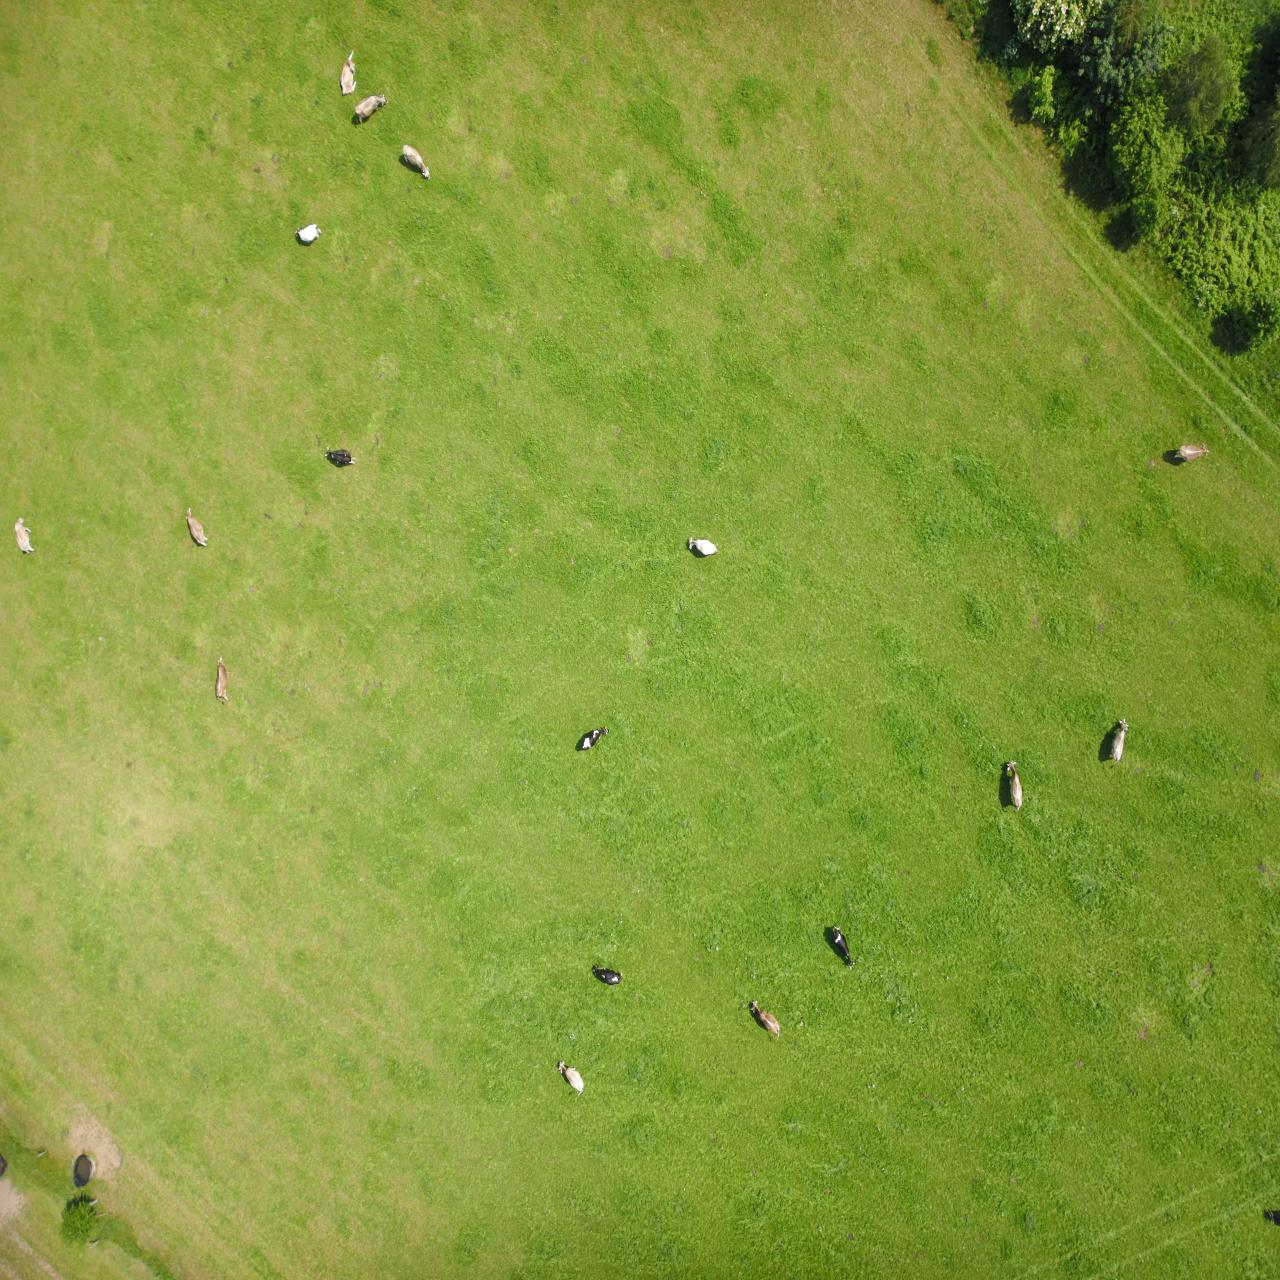cow: (1102, 712, 1135, 774), (747, 990, 781, 1044), (349, 87, 392, 128), (400, 141, 435, 186), (826, 918, 858, 968), (184, 501, 211, 556), (554, 1058, 586, 1103), (9, 512, 38, 561), (321, 437, 356, 476), (578, 719, 610, 761), (1002, 756, 1024, 813), (1173, 433, 1210, 468), (685, 532, 721, 565), (587, 959, 624, 992), (291, 218, 328, 250), (212, 655, 231, 707), (339, 48, 358, 98)
